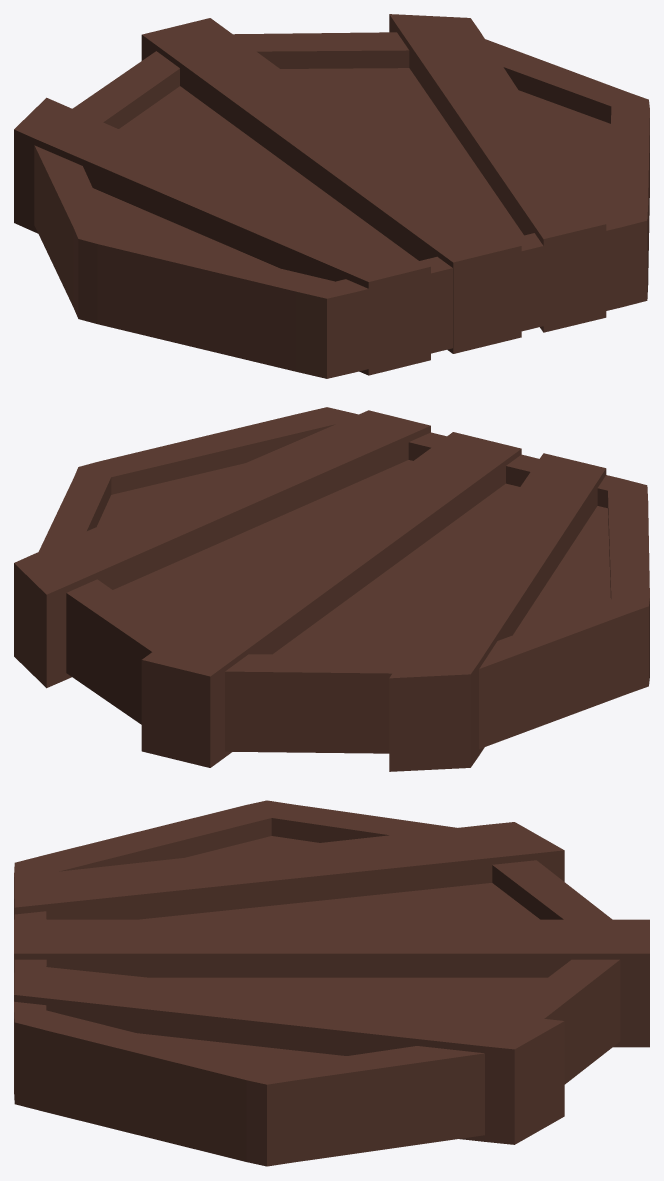
Rendered from cirya.glb.
The picture shows the model from 3 angles, top to bottom: view 1: azimuth 30°, elevation 25°; view 2: azimuth 150°, elevation 25°; view 3: azimuth 270°, elevation 25°; orthographic projection. The views are drawn at different scales.
Parts seen in each view (by area): view 1: cirya.003; view 2: cirya.003; view 3: cirya.003.
Part boxes in pixels (box(x1,y1,x2,y2)): cirya.003: box(14, 14, 649, 378); cirya.003: box(14, 407, 649, 771); cirya.003: box(14, 800, 649, 1166).
Size of the model in its own units: 2.12 by 0.3314 by 2.
